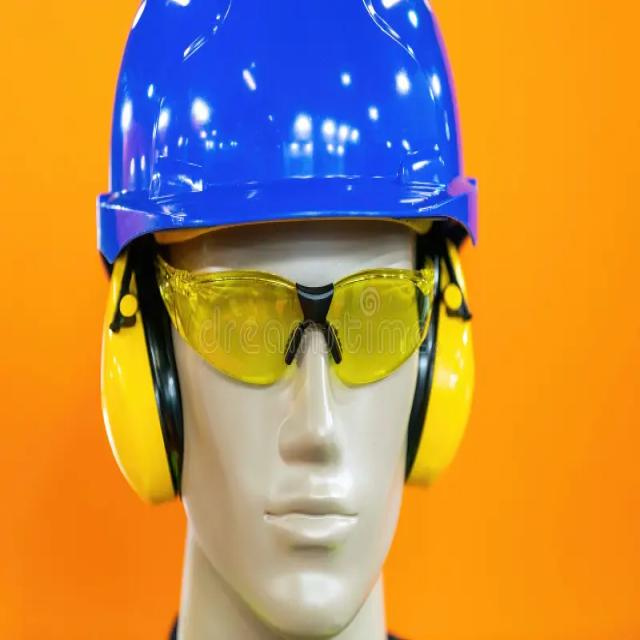Ear Muffs: (92, 231, 188, 509), (413, 214, 475, 502)
Hard Hat: (90, 0, 482, 265)
Safety Glasses: (151, 243, 445, 386)
